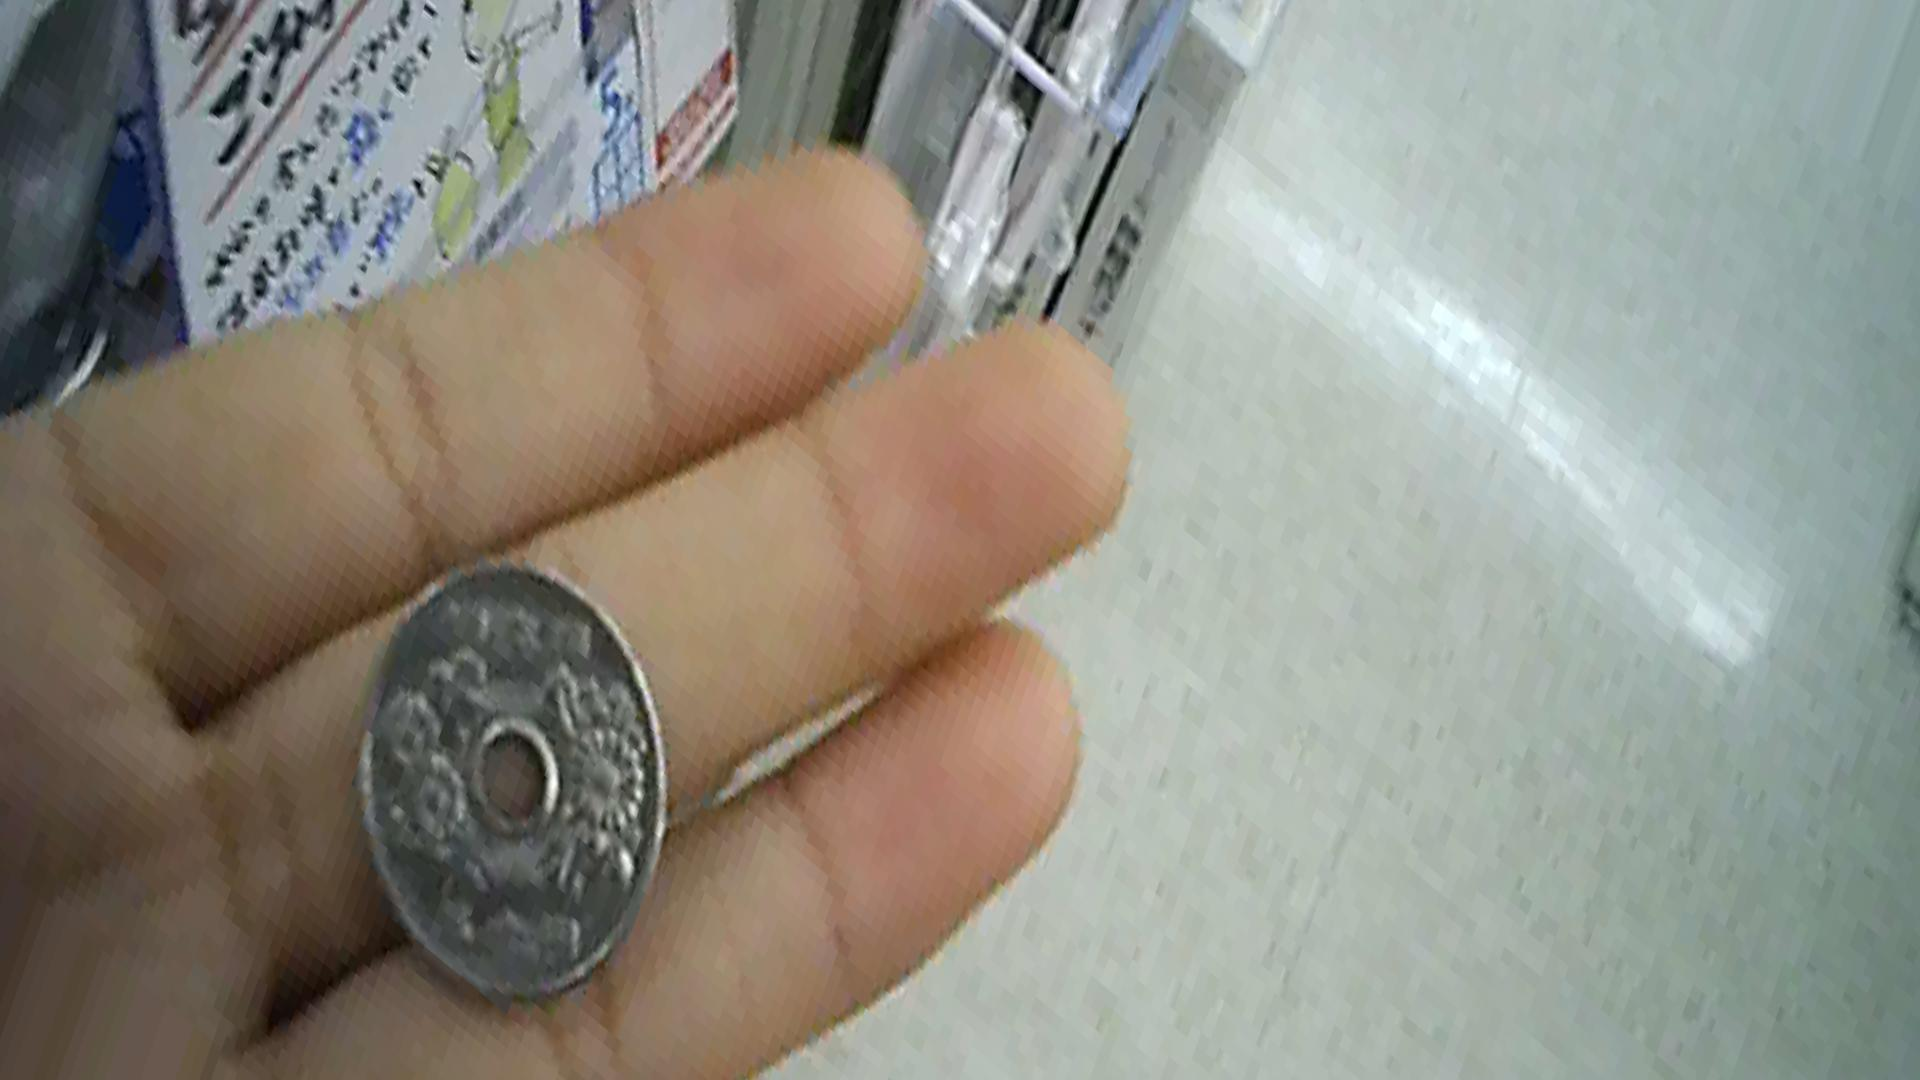50 Yen: (353, 556, 669, 996)
